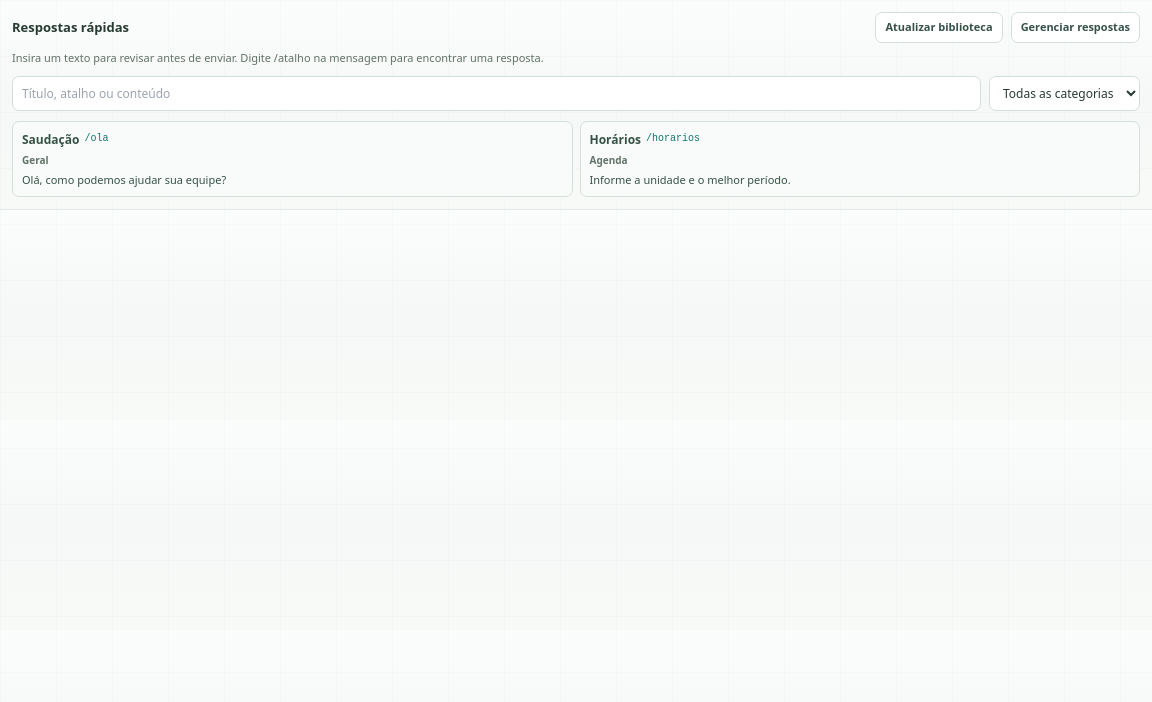
Test: QuickReplyLibrary › desativa sem excluir e permite reativar a resposta no cadastro
Expected: the button with aria-label "Inserir resposta Saudação" is shown, [12,121,572,197]
Click the button "Gerenciar respostas" at {"x": 1075, "y": 27}, box [1011,12,1140,42]
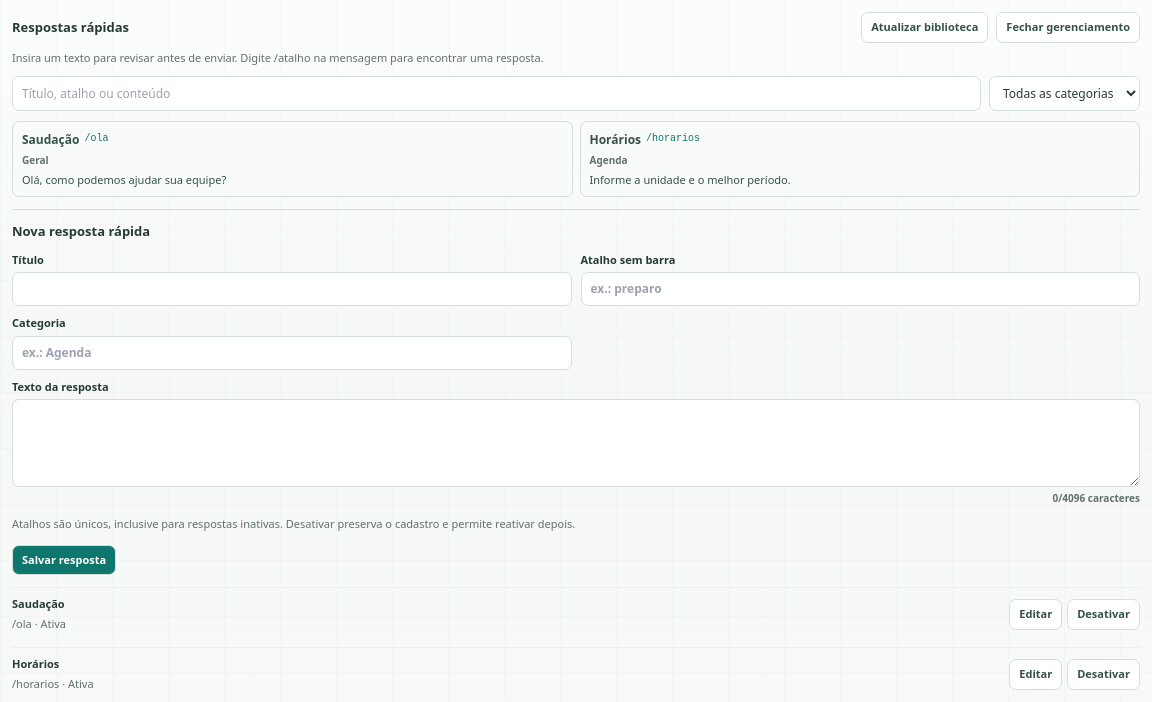
Click the button with aria-label "Desativar resposta Saudação" at {"x": 1104, "y": 614}, box [1067,599,1140,630]
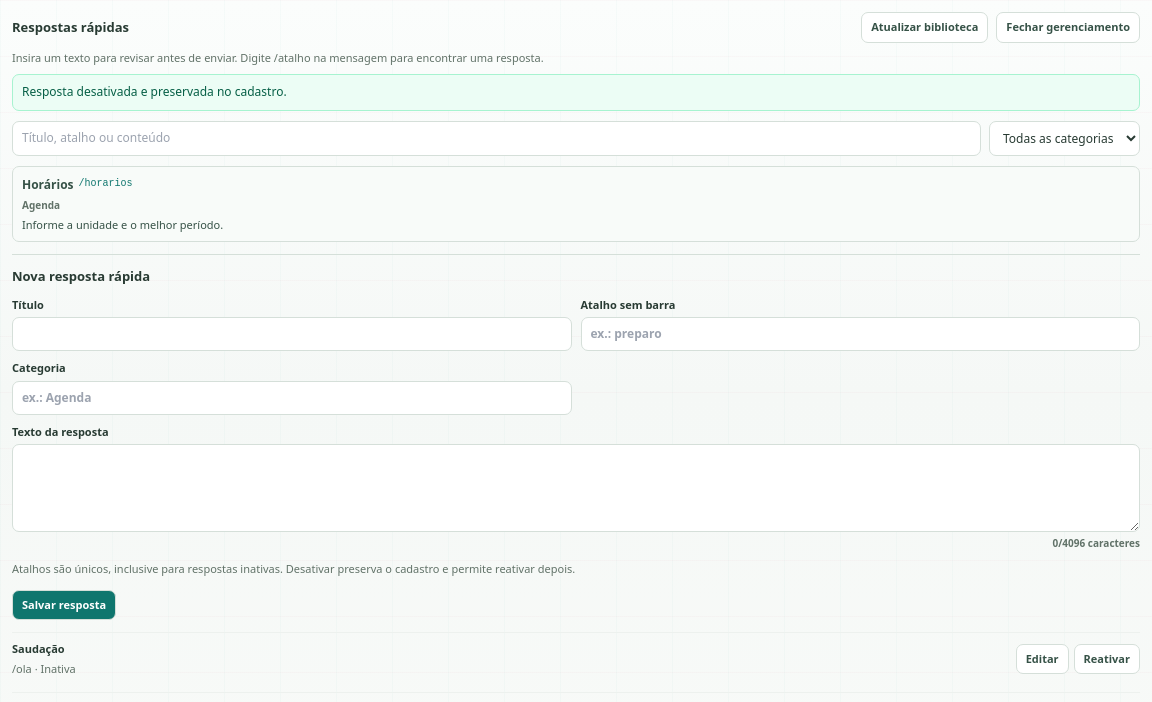
Expected: the button with aria-label "Editar resposta Saudação" is shown, [1016,644,1069,674]
Expected: the text "Resposta desativada e preservada no cadastro." is shown, [12,74,1140,111]
Click the button with aria-label "Reativar resposta Saudação" at {"x": 1107, "y": 659}, box [1074,644,1140,674]
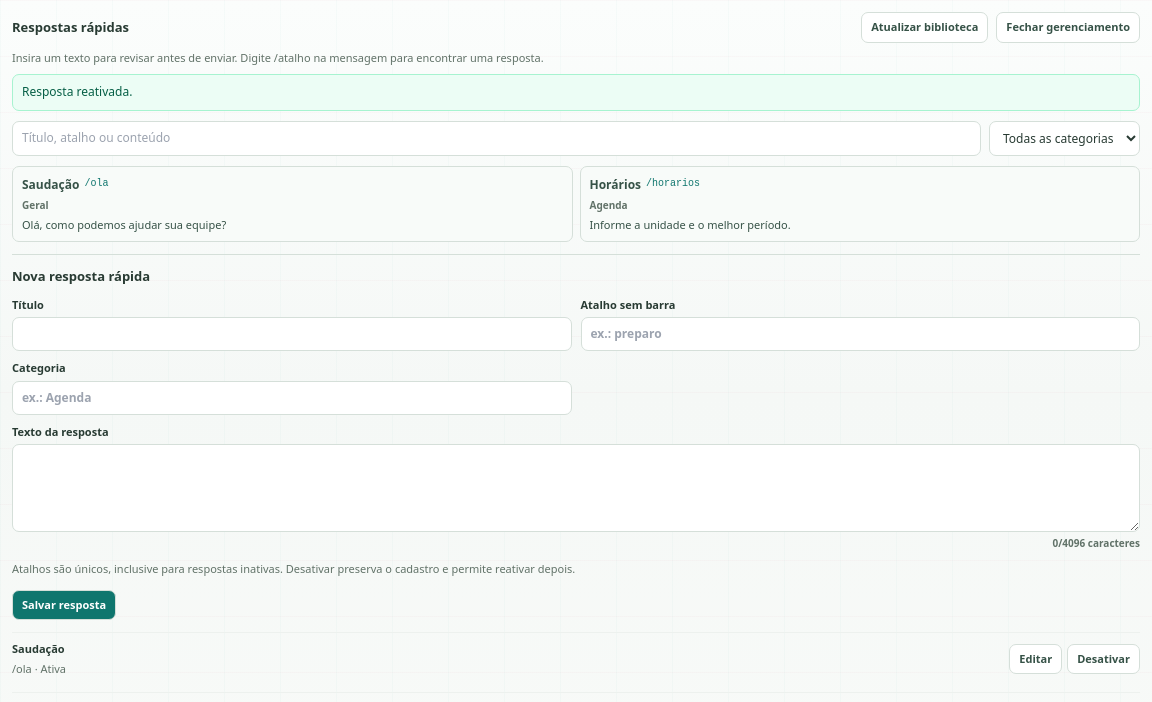
Expected: the text "Resposta reativada." is shown, [12,74,1140,111]
Expected: the button with aria-label "Inserir resposta Saudação" is shown, [12,166,572,242]
